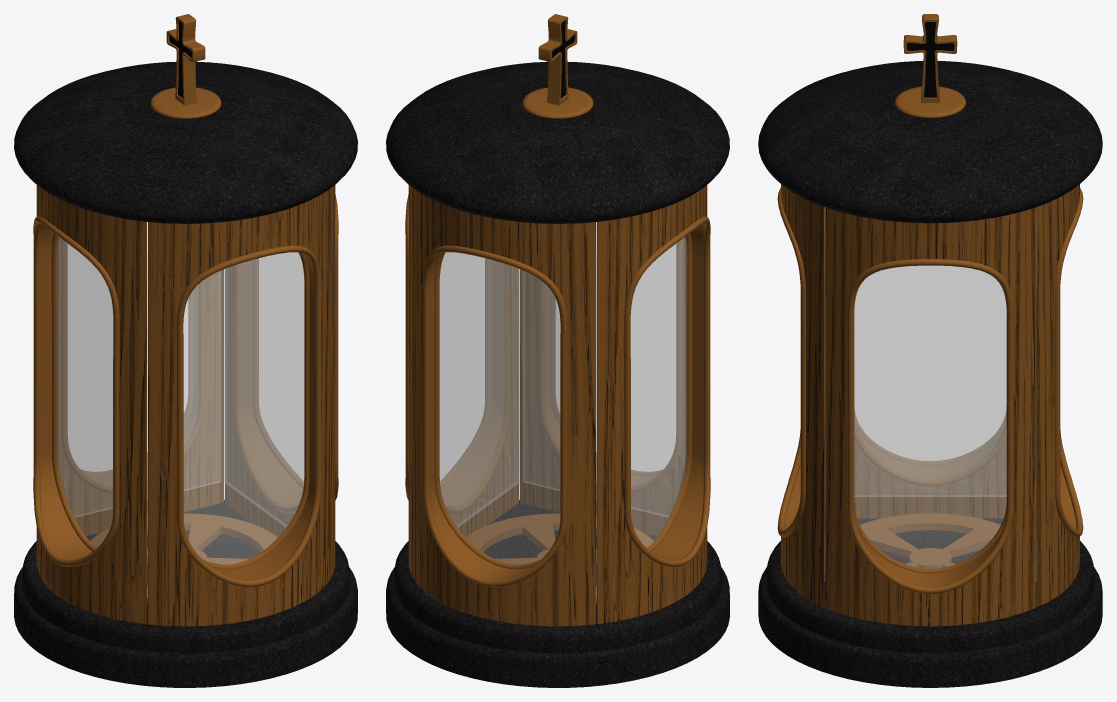
The model's file is Lantern 2.gltf.
3 views of the same model, side by side, from view 1: azimuth 30°, elevation 25°; view 2: azimuth 150°, elevation 25°; view 3: azimuth 270°, elevation 25° (orthographic).
Parts seen in each view (by area): view 1: Circle.001, Circle.009, Circle.007, Circle.008, Circle.011, Circle.012, Circle.010, Cube.039, Circle.006; view 2: Circle.001, Circle.009, Circle.007, Circle.008, Circle.011, Circle.012, Circle.010, Cube.039, Circle.006; view 3: Circle.001, Circle.009, Circle.007, Circle.008, Circle.011, Circle.010, Circle.012, Cube.039, Circle.006.
Part boxes in pixels (x1,y1,x2,y2): Circle.001: (36,185,335,626); Circle.009: (56,222,304,597); Circle.007: (14,61,357,223); Circle.008: (14,499,357,687); Circle.011: (33,194,338,587); Circle.012: (51,233,309,569); Circle.010: (90,513,277,604); Cube.039: (166,14,205,105); Circle.006: (150,87,221,118); Circle.001: (408,185,707,626); Circle.009: (439,222,687,597); Circle.007: (386,61,729,223); Circle.008: (386,499,729,687); Circle.011: (405,194,710,587); Circle.012: (434,233,692,569); Circle.010: (466,513,653,604); Cube.039: (538,14,577,105); Circle.006: (522,87,593,118); Circle.001: (781,184,1079,626); Circle.009: (854,265,1006,568); Circle.007: (758,61,1102,223); Circle.008: (758,518,1102,687); Circle.011: (777,188,1083,594); Circle.010: (860,513,1000,568); Circle.012: (824,207,1036,573); Cube.039: (903,14,957,102); Circle.006: (895,86,965,117).
Bounding box in the file's own units: 0.15 × 0.2876 × 0.15.
Materials: 5 (2 with a texture image).
